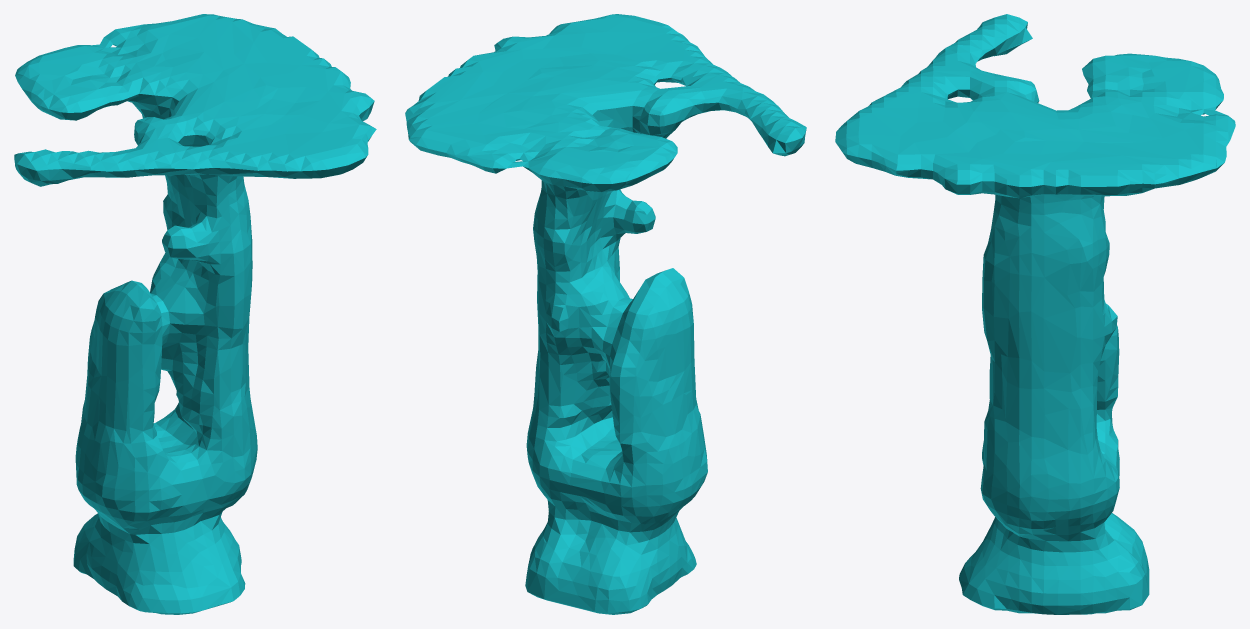
3 views of the same model, side by side, from view 1: azimuth 30°, elevation 25°; view 2: azimuth 150°, elevation 25°; view 3: azimuth 270°, elevation 25° (orthographic). The views are drawn at different scales.
Parts seen in each view (by area): view 1: Liquid_Domain; view 2: Liquid_Domain; view 3: Liquid_Domain.
Part boxes in pixels (box(x1,y1,x2,y2)): Liquid_Domain: box(14, 14, 376, 614); Liquid_Domain: box(405, 14, 806, 614); Liquid_Domain: box(835, 14, 1235, 614).
Size of the model in its own units: 78.05 by 108 by 78.37.
